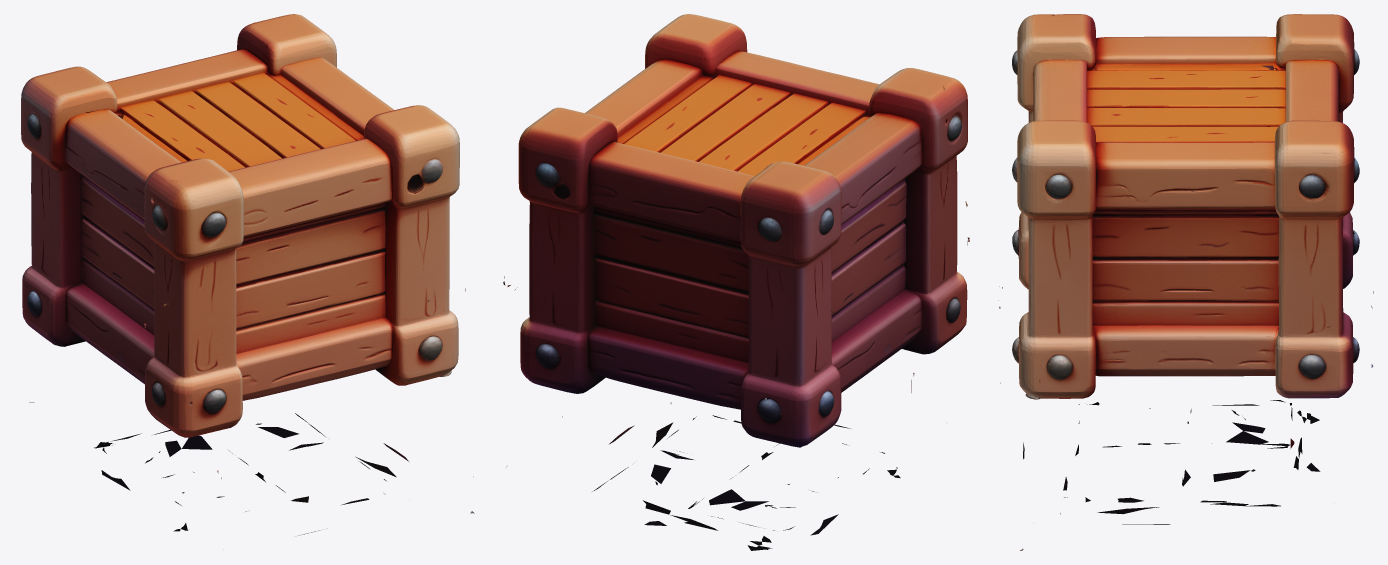
The model's file is crate.fbx.
3 renders of one model, left to right at view 1: azimuth 30°, elevation 25°; view 2: azimuth 150°, elevation 25°; view 3: azimuth 270°, elevation 25°, orthographic. The views are drawn at different scales.
Visible parts, largest first — view 1: crate; view 2: crate; view 3: crate.
Part boxes in pixels (x1,y1,x2,y2): crate: [21, 14, 459, 437]; crate: [518, 14, 967, 447]; crate: [1012, 14, 1359, 399].
Bounding box in the file's own units: 0.9699 × 1.14 × 0.9706.
Materials: 1 (1 with a texture image).
